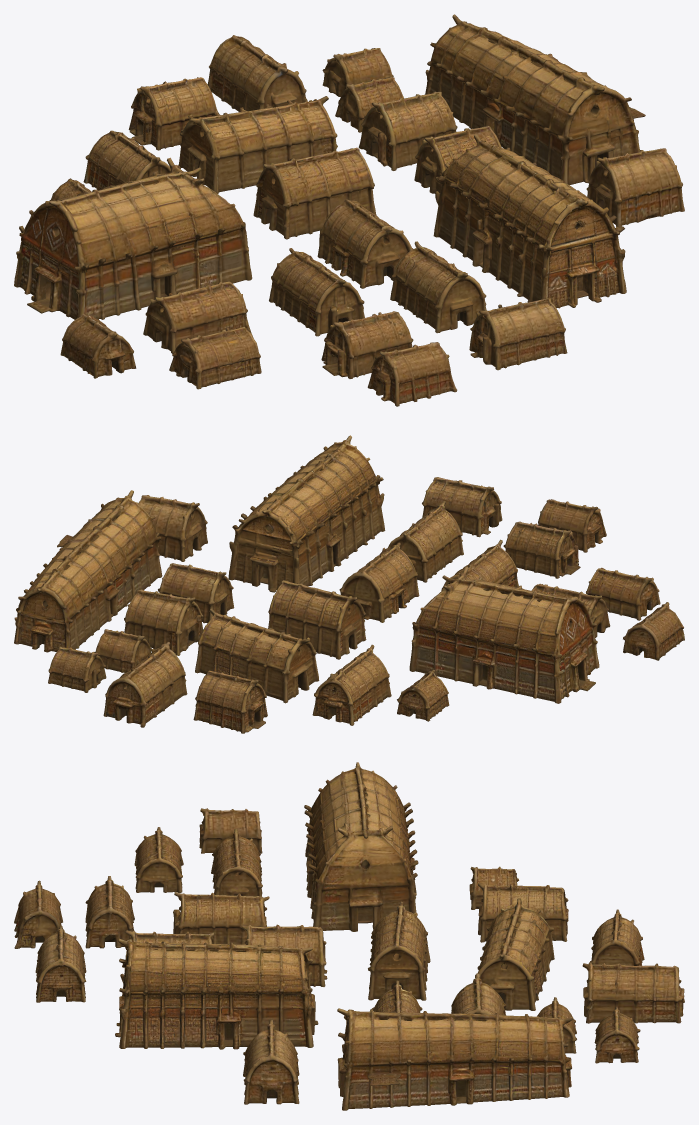
The model's file is Classical Town (North American Native).fbx.
The picture shows the model from 3 angles, top to bottom: view 1: azimuth 30°, elevation 25°; view 2: azimuth 150°, elevation 25°; view 3: azimuth 270°, elevation 25°; orthographic projection. The views are drawn at different scales.
Visible parts, largest first — view 1: tripo_node_14dafc0f; view 2: tripo_node_14dafc0f; view 3: tripo_node_14dafc0f.
Boxes of the visible parts, <box> form: tripo_node_14dafc0f: <box>14,14,684,406</box>; tripo_node_14dafc0f: <box>14,435,684,733</box>; tripo_node_14dafc0f: <box>14,762,684,1110</box>.
Bounding box in the file's own units: 0.9995 × 0.1526 × 1.
